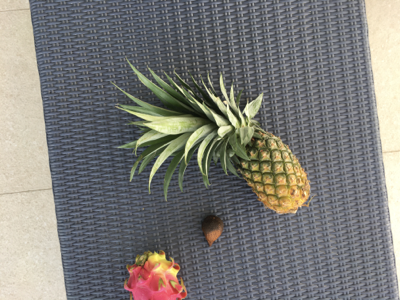dragon fruit: (125, 250, 188, 300)
pineapple: (110, 58, 313, 220)
snake fruit: (201, 215, 225, 247)
